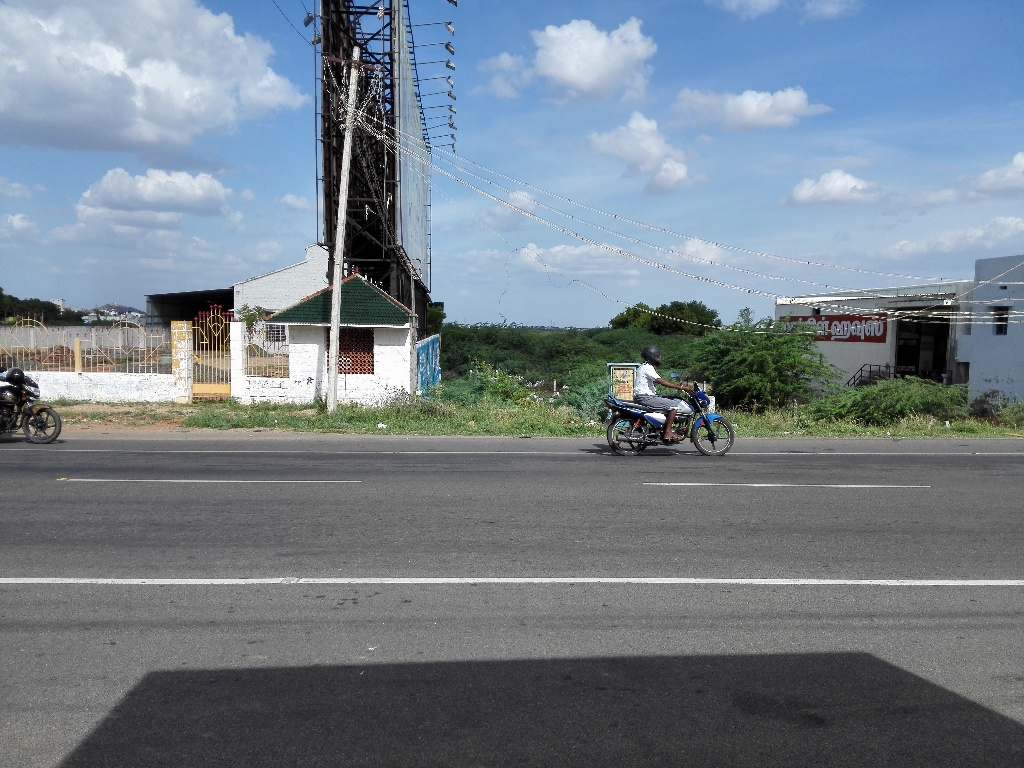biker: (589, 315, 744, 466)
helmet: (633, 337, 670, 380)
